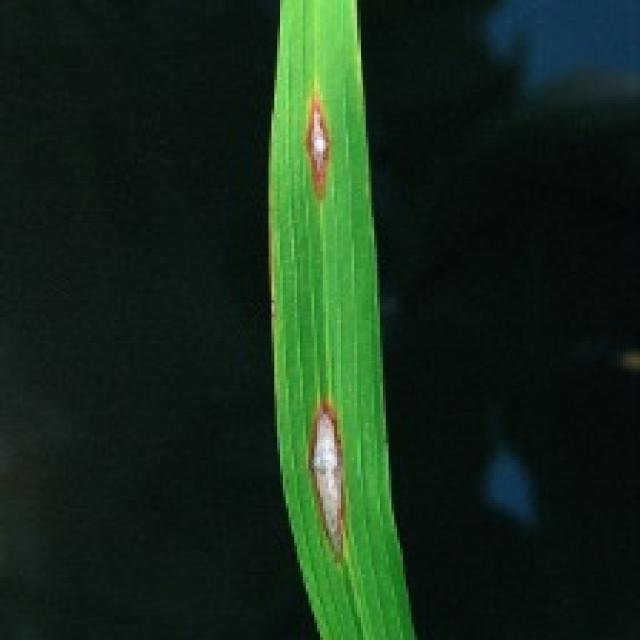Rice___Rice_Blast: (269, 0, 421, 637)
